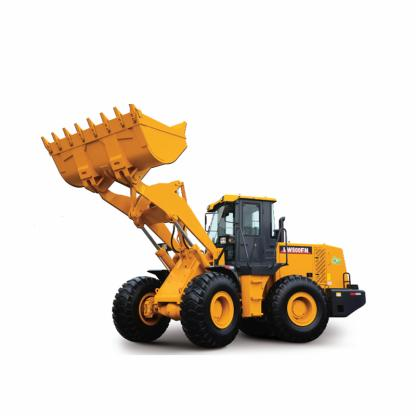bull_dozer/loader/grader: (41, 102, 373, 365)
